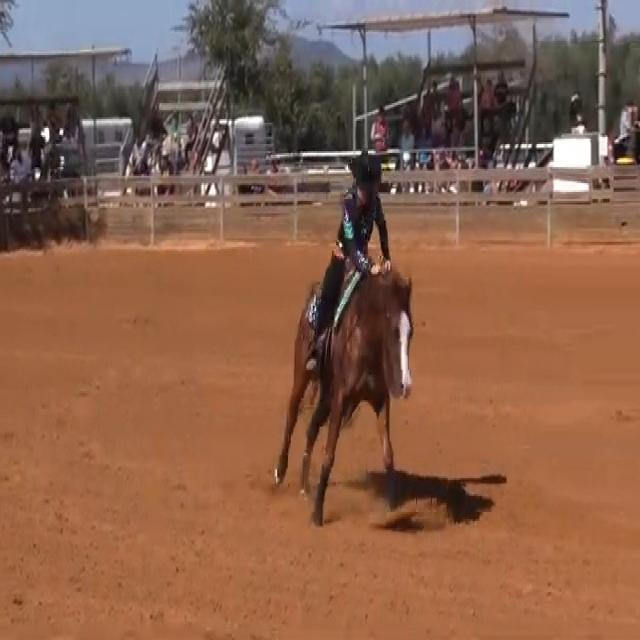horse: (272, 258, 415, 526)
